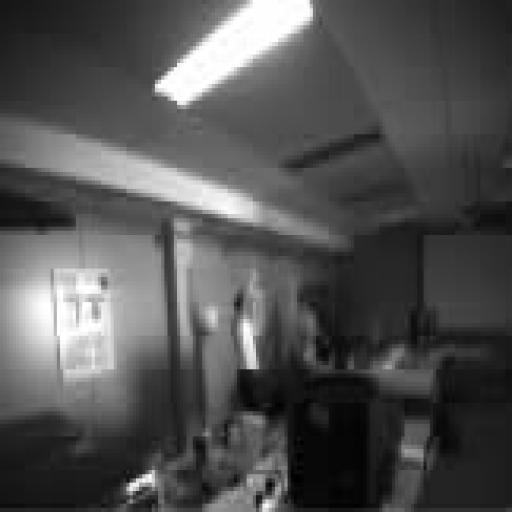human: (231, 286, 281, 411), (298, 294, 335, 373)
